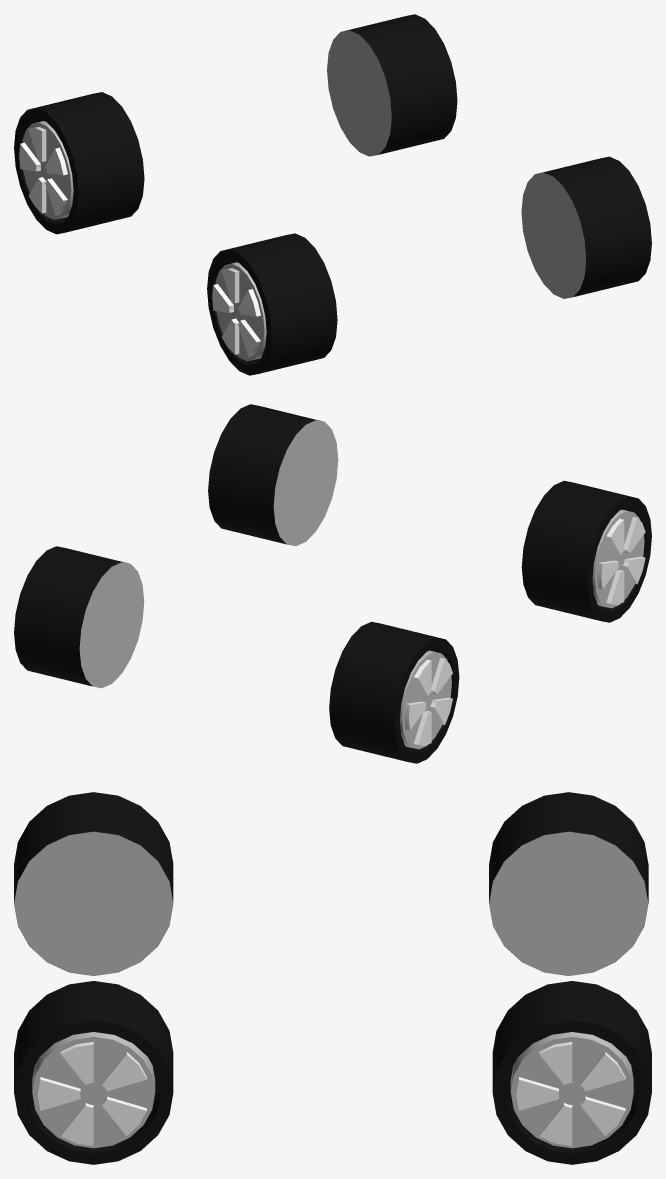
The model's file is EV-WHEELS-EKkFztEM.glb.
3 renders of one model, top to bottom at view 1: azimuth 30°, elevation 25°; view 2: azimuth 150°, elevation 25°; view 3: azimuth 270°, elevation 25°, orthographic. The views are drawn at different scales.
Size of the model in its own units: 1.75 by 0.5035 by 2.01.
3 materials, 3 textured.
